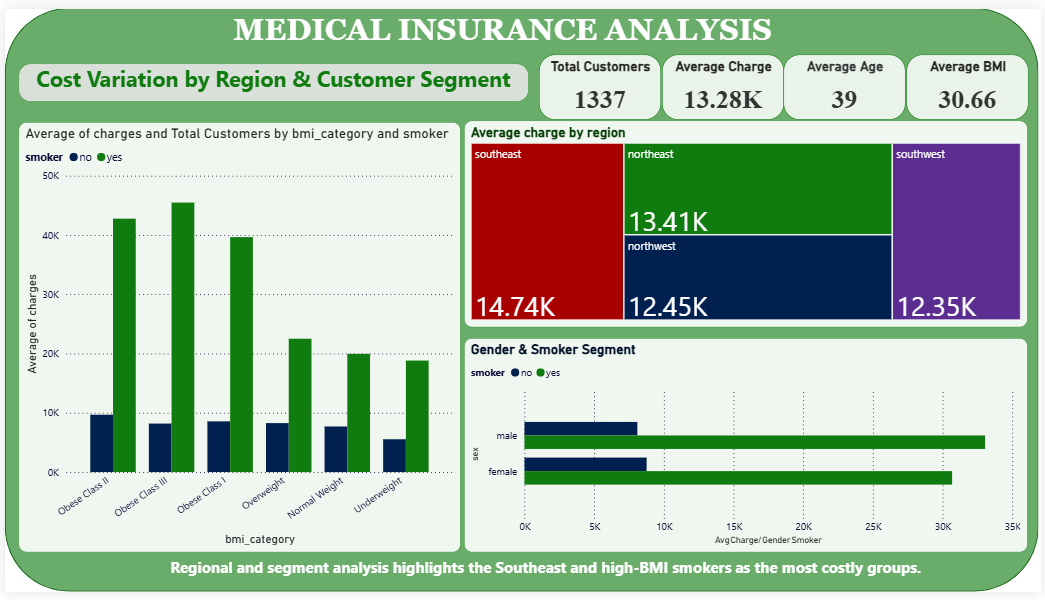

Layout of this report page (visuals, bound fields, positions):
{"tool":"powerbi","page":{"name":"Page 3","canvas":[1280,720],"ordinal":2},"visuals":[{"type":"shape","box":[0,0,1275.9,720.4],"z":0},{"type":"clusteredBarChart","title":"Gender & Smoker Segment","fields":{"Category":["Medical_insurance.sex"],"Series":["Medical_insurance.smoker"],"Y":["MeasureTable.Avg Charge/ Gender Smoker"]},"box":[566.7,407.4,696.3,264.8],"z":1000},{"type":"treemap","title":"Average  charge by region","fields":{"Group":["Medical_insurance.region"],"Values":["MeasureTable.Avg insurance charge"]},"box":[566.7,138.9,696.3,255.6],"z":2000},{"type":"clusteredColumnChart","fields":{"Category":["Medical_insurance.bmi_category"],"Series":["Medical_insurance.smoker"],"Y":["Avg(Medical_insurance.charges)"]},"box":[16.7,140.7,546.3,531.5],"z":3000},{"type":"textbox","title":"M","box":[57.9,0,1114,56.1],"z":5000},{"type":"textbox","box":[15.8,68.4,629.8,47.4],"z":6000},{"type":"card","title":"Total Customers","fields":{"Values":["MeasureTable.Total individuals"]},"box":[659.6,56.6,150.9,80.7],"z":7000},{"type":"card","title":"Average Charge","fields":{"Values":["MeasureTable.Average insurance charge"]},"box":[810.5,56.6,150.9,80.7],"z":8000},{"type":"card","title":"Average Age","fields":{"Values":["MeasureTable.avg_Age"]},"box":[961.4,56.6,150.9,80.7],"z":9000},{"type":"card","title":"Average BMI","fields":{"Values":["MeasureTable.Avg BMI"]},"box":[1112.3,56.6,150.9,80.7],"z":10000},{"type":"textbox","box":[100,672.2,1135.2,48.1],"z":11000}]}

Visuals, with their boxes in screenshot pixels (x1, y1, x2, y2), scaled from the page's 1280x720 canvas onto the 1045x600 screenshot:
shape: x1=0, y1=0, x2=1042, y2=599
"Gender & Smoker Segment" clusteredBarChart: x1=463, y1=340, x2=1031, y2=560
"Average  charge by region" treemap: x1=463, y1=116, x2=1031, y2=329
clusteredColumnChart - Medical_insurance.bmi_category x Medical_insurance.smoker: x1=14, y1=117, x2=460, y2=560
"M" textbox: x1=47, y1=0, x2=957, y2=47
textbox: x1=13, y1=57, x2=527, y2=97
"Total Customers" card: x1=539, y1=47, x2=662, y2=114
"Average Charge" card: x1=662, y1=47, x2=785, y2=114
"Average Age" card: x1=785, y1=47, x2=908, y2=114
"Average BMI" card: x1=908, y1=47, x2=1031, y2=114
textbox: x1=82, y1=560, x2=1008, y2=599
